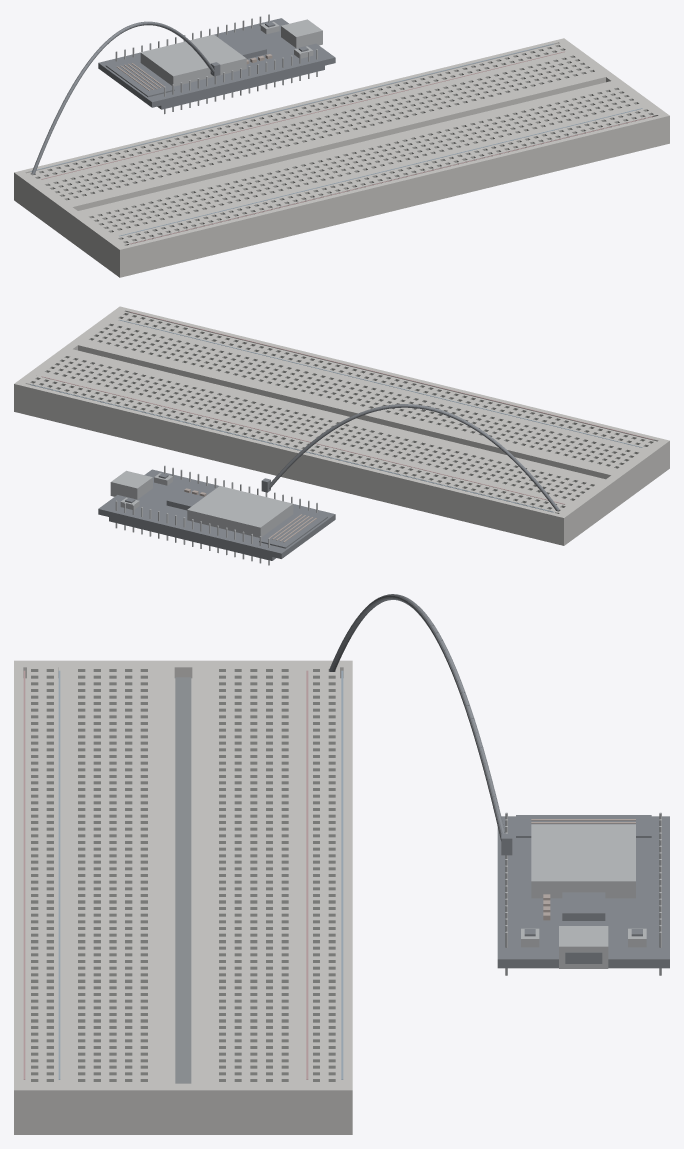
The model's file is step-1.glb.
The picture shows the model from 3 angles, top to bottom: view 1: azimuth 30°, elevation 25°; view 2: azimuth 150°, elevation 25°; view 3: azimuth 270°, elevation 25°; orthographic projection. The views are drawn at different scales.
Visible parts, largest first — view 1: bb1__mesh, uno__mesh, w_gnd_rail__mesh; view 2: bb1__mesh, uno__mesh, w_gnd_rail__mesh; view 3: bb1__mesh, uno__mesh, w_gnd_rail__mesh.
Boxes of the visible parts, <box> form: bb1__mesh: <box>14,38,669,277</box>; uno__mesh: <box>98,14,335,114</box>; w_gnd_rail__mesh: <box>31,21,220,174</box>; bb1__mesh: <box>14,306,669,545</box>; uno__mesh: <box>98,465,335,565</box>; w_gnd_rail__mesh: <box>261,404,559,511</box>; bb1__mesh: <box>14,660,352,1134</box>; uno__mesh: <box>497,812,669,975</box>; w_gnd_rail__mesh: <box>329,594,512,855</box>.
Bounding box in the file's own units: 0.165 × 0.0358 × 0.1065.
